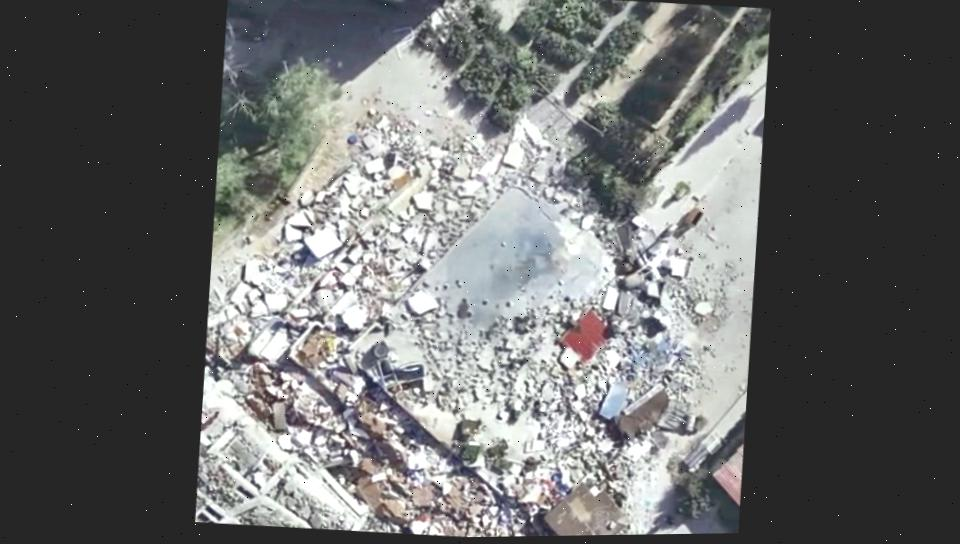kapali: (389, 183, 755, 537)
